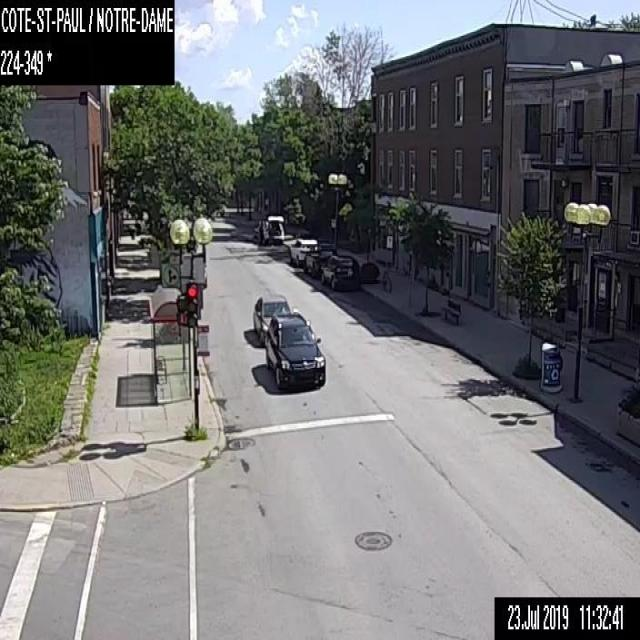pedestrian: (268, 222, 274, 245), (258, 220, 263, 243)
vehicle: (264, 313, 326, 388), (252, 293, 291, 343), (320, 253, 359, 290), (302, 244, 338, 275), (254, 213, 284, 243), (288, 238, 317, 265)
